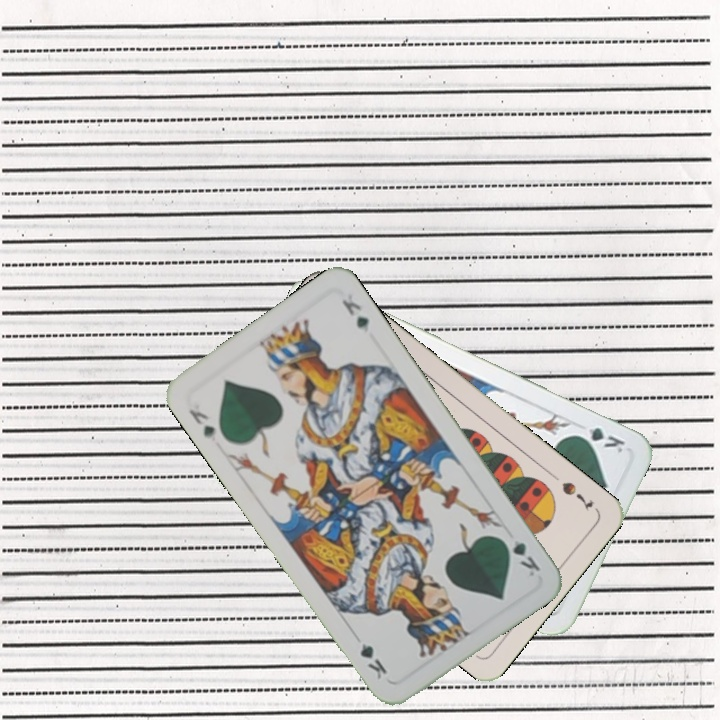GK: (496, 533, 543, 579), (570, 423, 627, 456), (185, 405, 218, 441)
S7: (557, 477, 596, 512)
